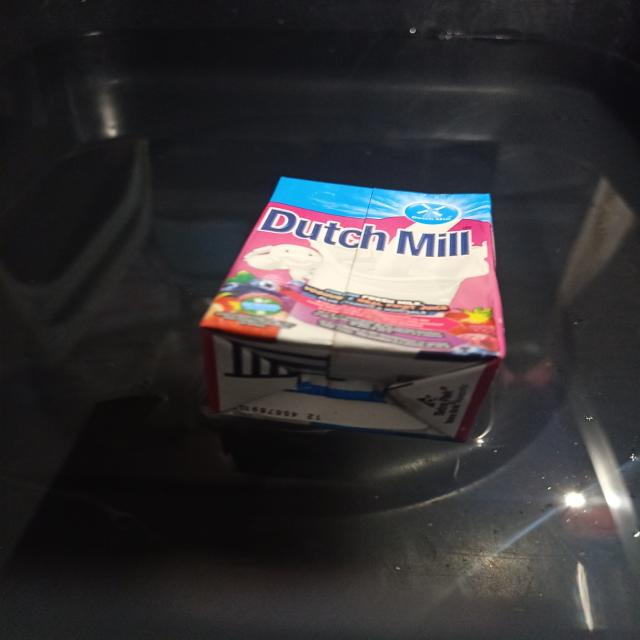Cardboard Box: (200, 177, 505, 442)
